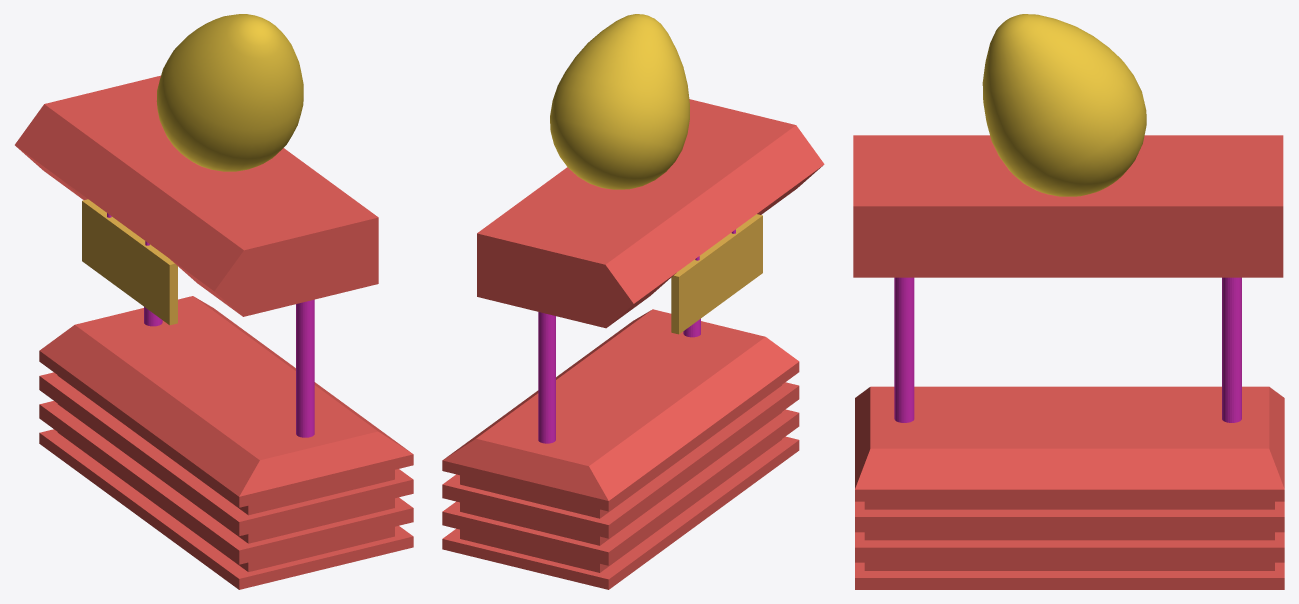
The model's file is StandHuevos.fbx.
The picture shows the model from 3 angles, left to right: view 1: azimuth 30°, elevation 25°; view 2: azimuth 150°, elevation 25°; view 3: azimuth 270°, elevation 25°; orthographic projection. The views are drawn at different scales.
Parts seen in each view (by area): view 1: Cube.022; view 2: Cube.022; view 3: Cube.022.
Boxes of the visible parts, <box> form: Cube.022: <box>15,14,413,589</box>; Cube.022: <box>442,14,824,589</box>; Cube.022: <box>853,14,1284,589</box>.
Size of the model in its own units: 420 by 986 by 730.
